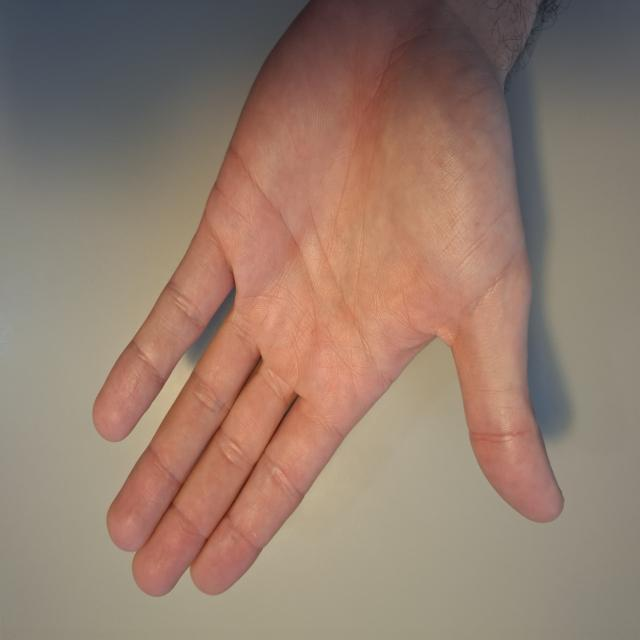glove_off: (91, 2, 568, 602)
